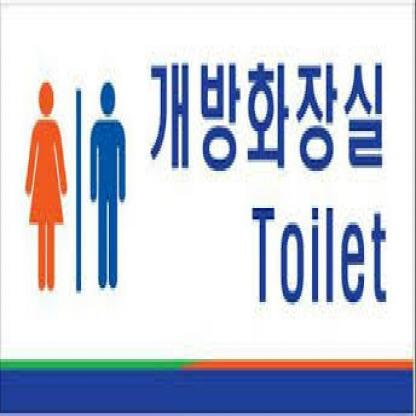toilet: (26, 74, 128, 294)
